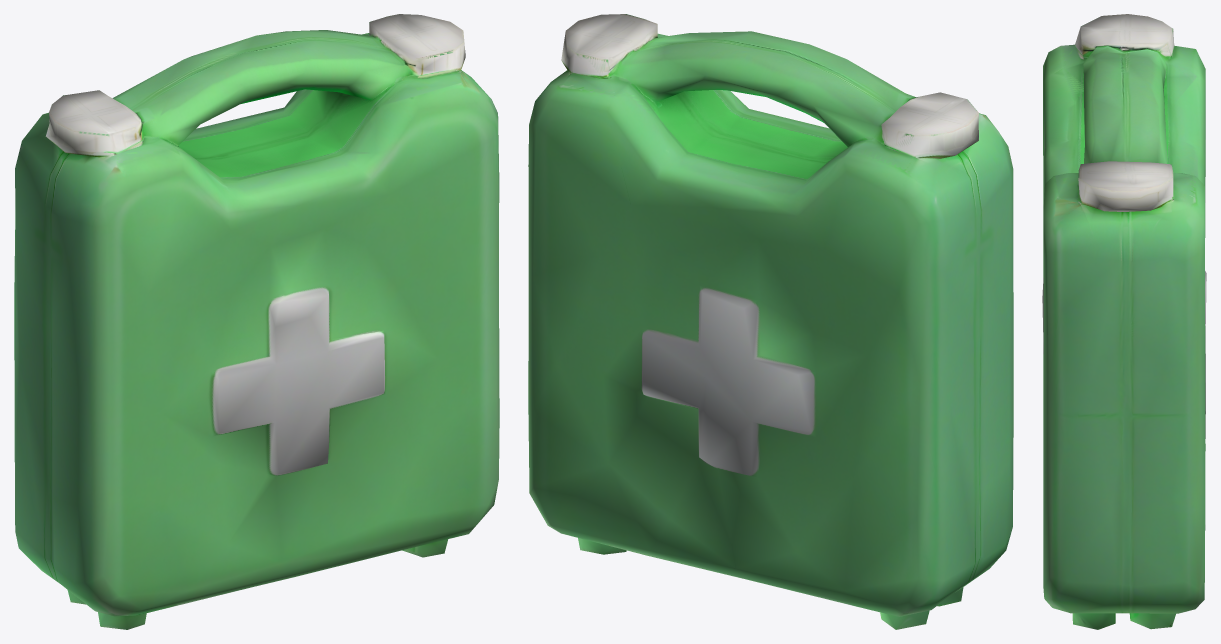
File: health_full.obj
The picture shows the model from 3 angles, left to right: view 1: azimuth 30°, elevation 25°; view 2: azimuth 150°, elevation 25°; view 3: azimuth 270°, elevation 25°; orthographic projection. The views are drawn at different scales.
Parts seen in each view (by area): view 1: a_health_pack_0921234425_texture; view 2: a_health_pack_0921234425_texture; view 3: a_health_pack_0921234425_texture.
Part boxes in pixels (bbox=[...]): a_health_pack_0921234425_texture: bbox=[14, 14, 499, 629]; a_health_pack_0921234425_texture: bbox=[528, 14, 1013, 629]; a_health_pack_0921234425_texture: bbox=[1042, 14, 1206, 629].
Size of the model in its own units: 1.66 by 2.01 by 0.6245.
